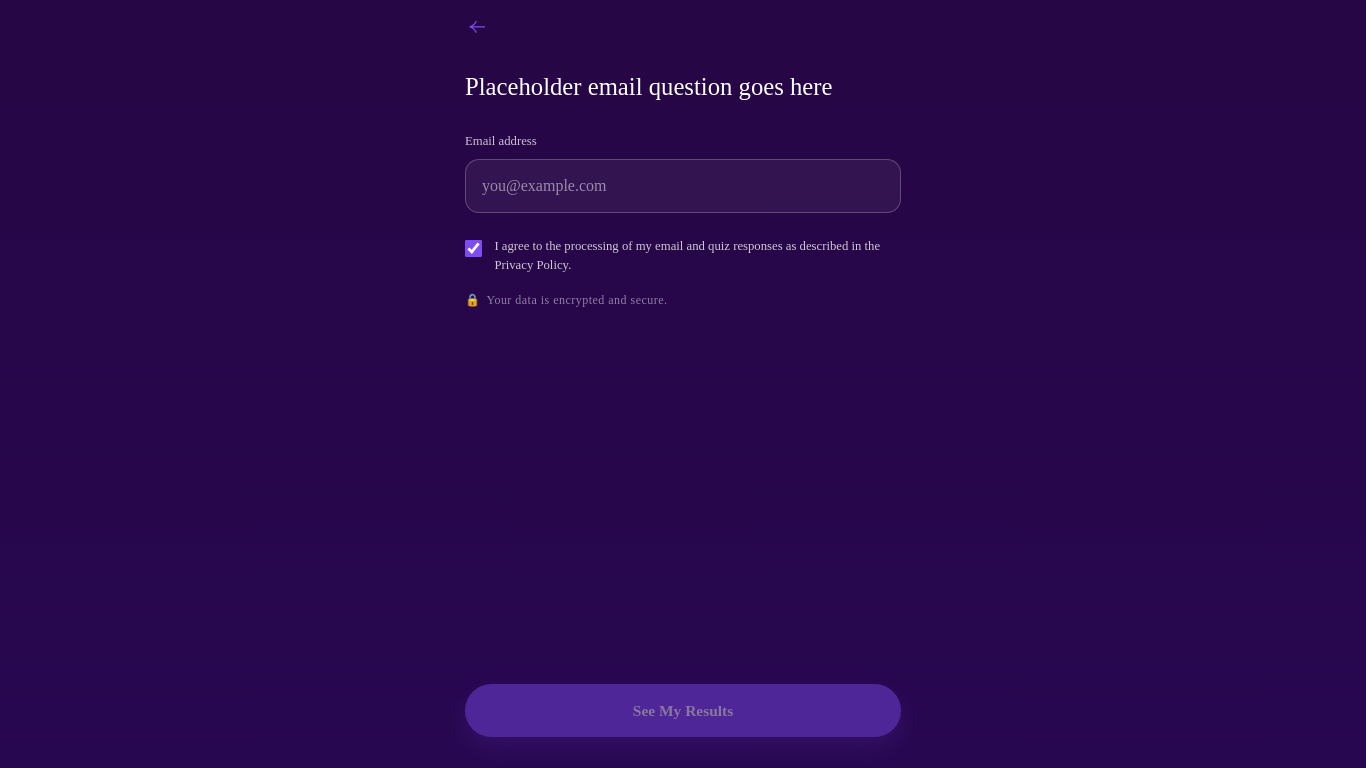
Test: Email Capture Consent UI › re-checking consent re-enables the submit button
Type "test@example.com" into the field labelled "Email address" at (683, 186), box left=465, top=159, right=901, bottom=213
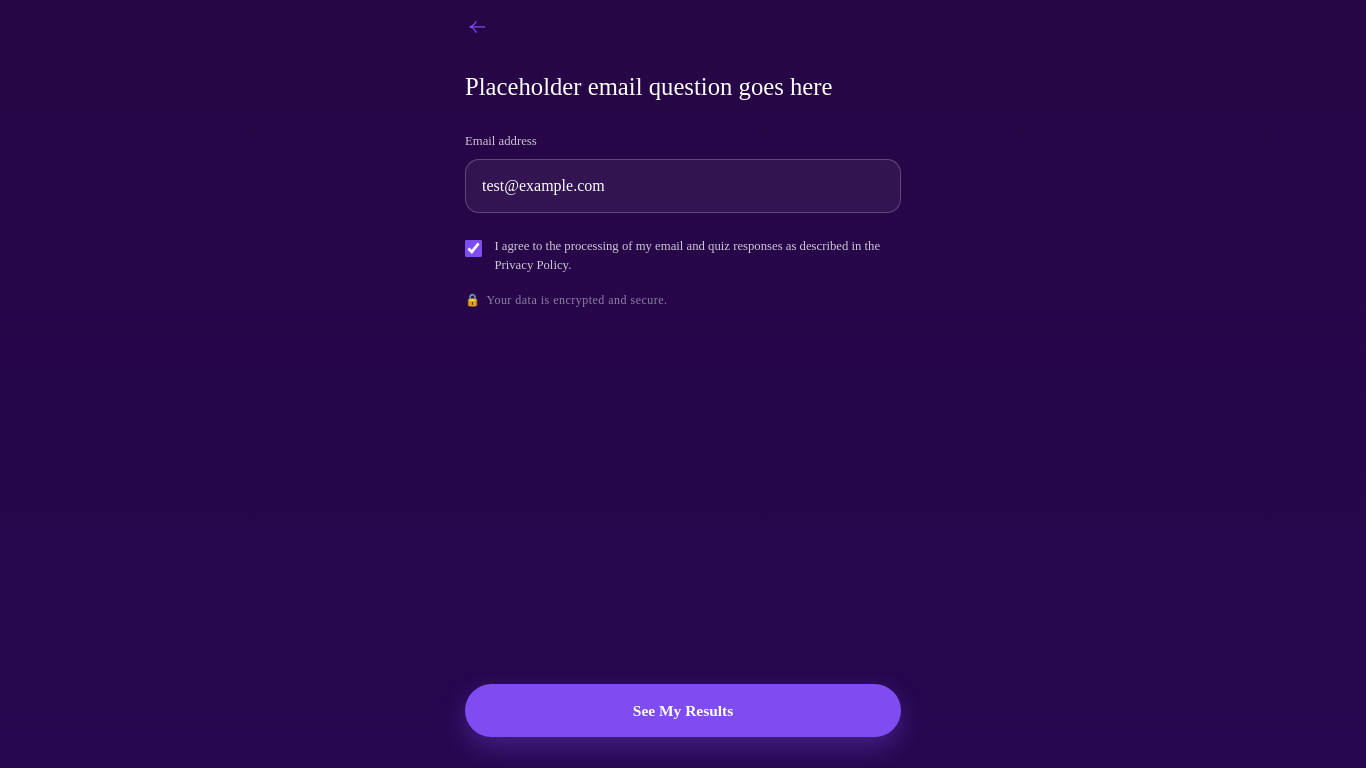
Click the checkbox labelled "processing of my email" at (474, 248), box left=465, top=240, right=482, bottom=257
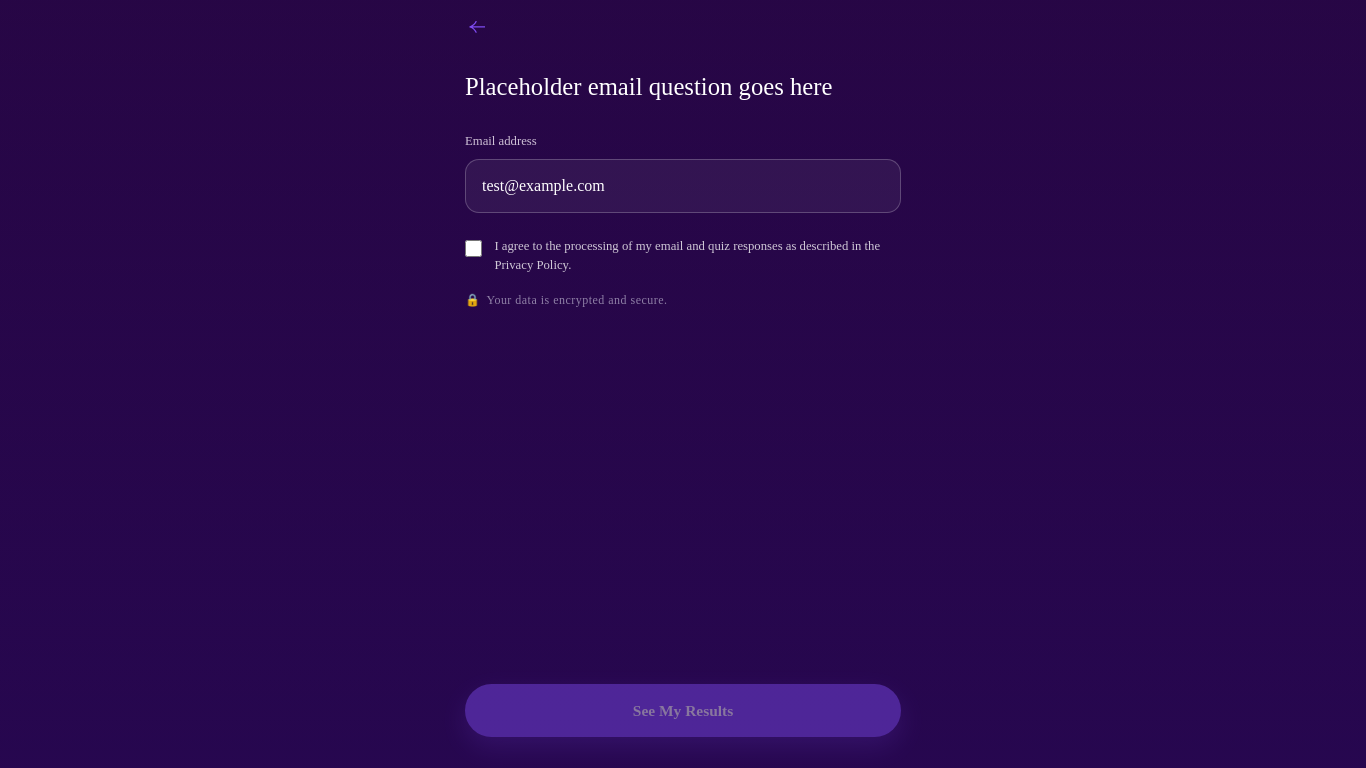
Expected: the button "See My Results" is disabled, left=465, top=684, right=901, bottom=737
Click the checkbox labelled "processing of my email" at (474, 248), box left=465, top=240, right=482, bottom=257
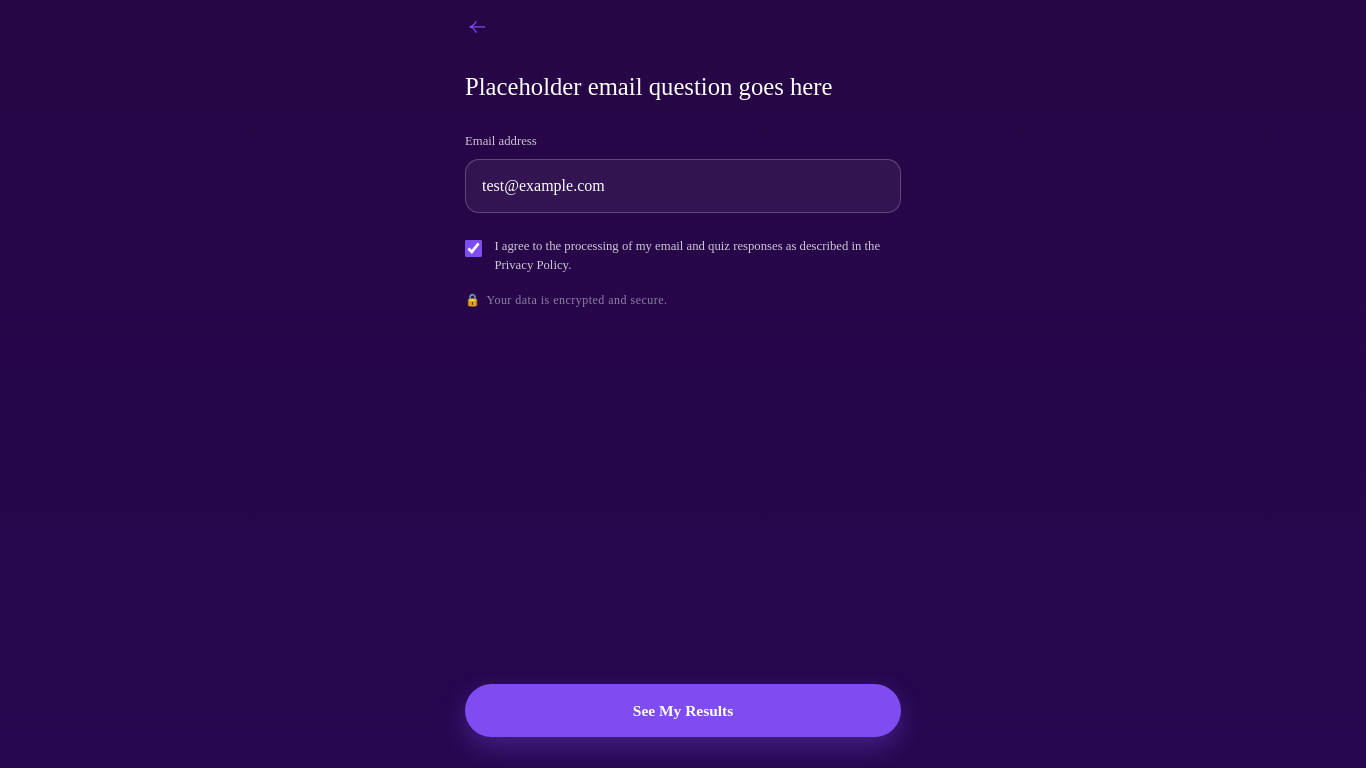
Expected: the button "See My Results" is enabled, left=465, top=684, right=901, bottom=737
